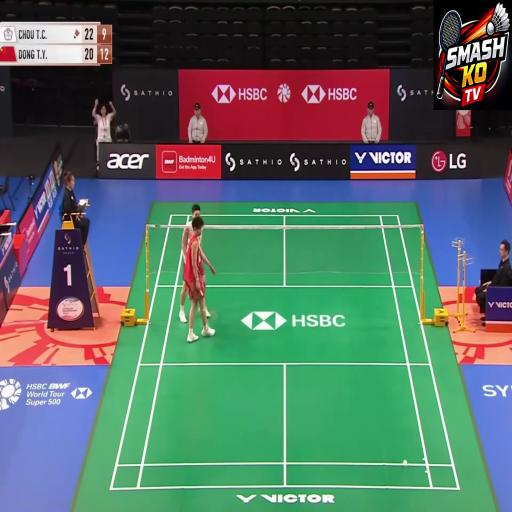player: (188, 222, 228, 355), (177, 179, 209, 338)
